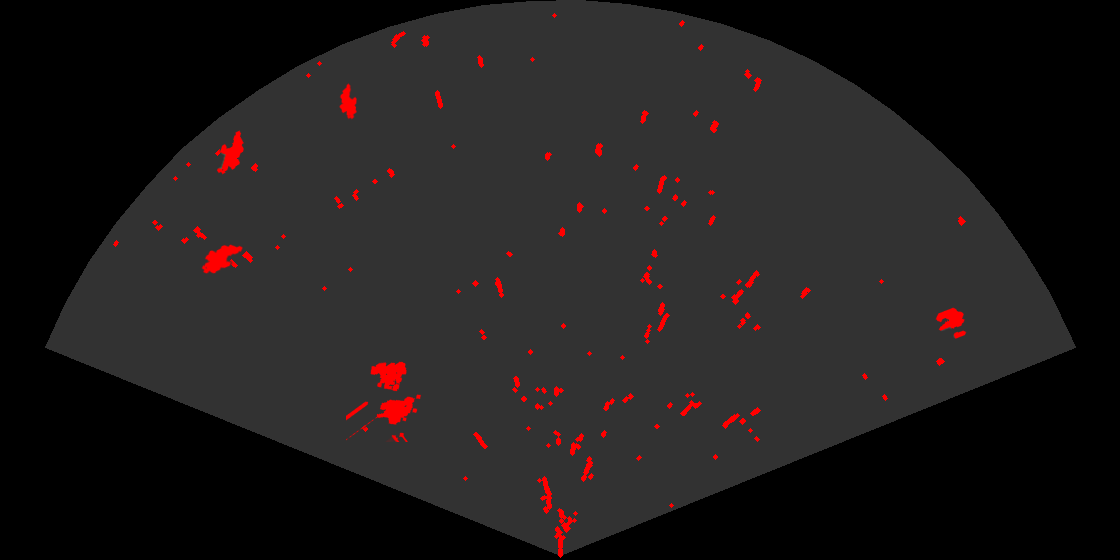AUV: (215, 129, 245, 176), (200, 243, 244, 275), (338, 82, 358, 121)
ball: (934, 306, 968, 340)
cage: (346, 360, 423, 442)
